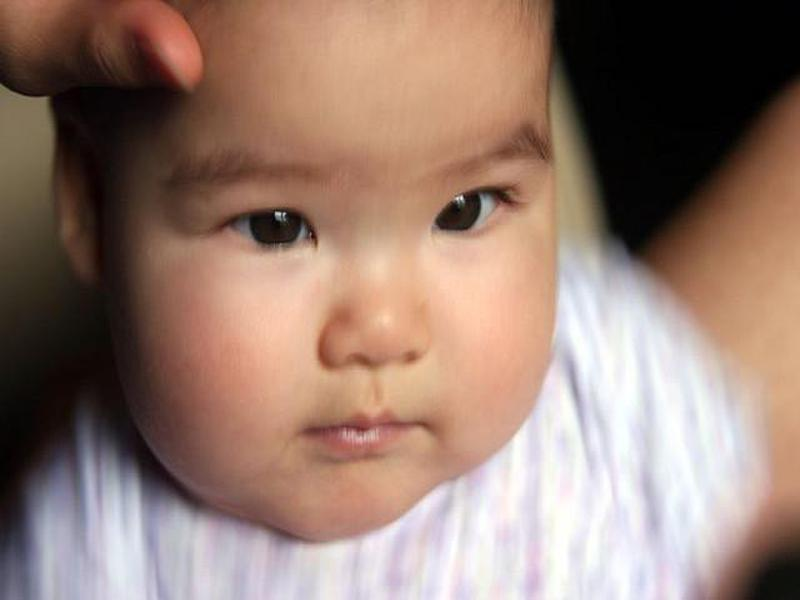person: (5, 1, 740, 600)
